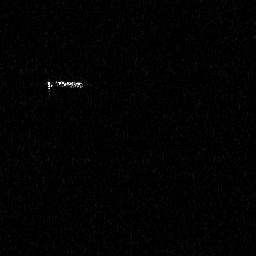ship: (44, 79, 84, 94)
